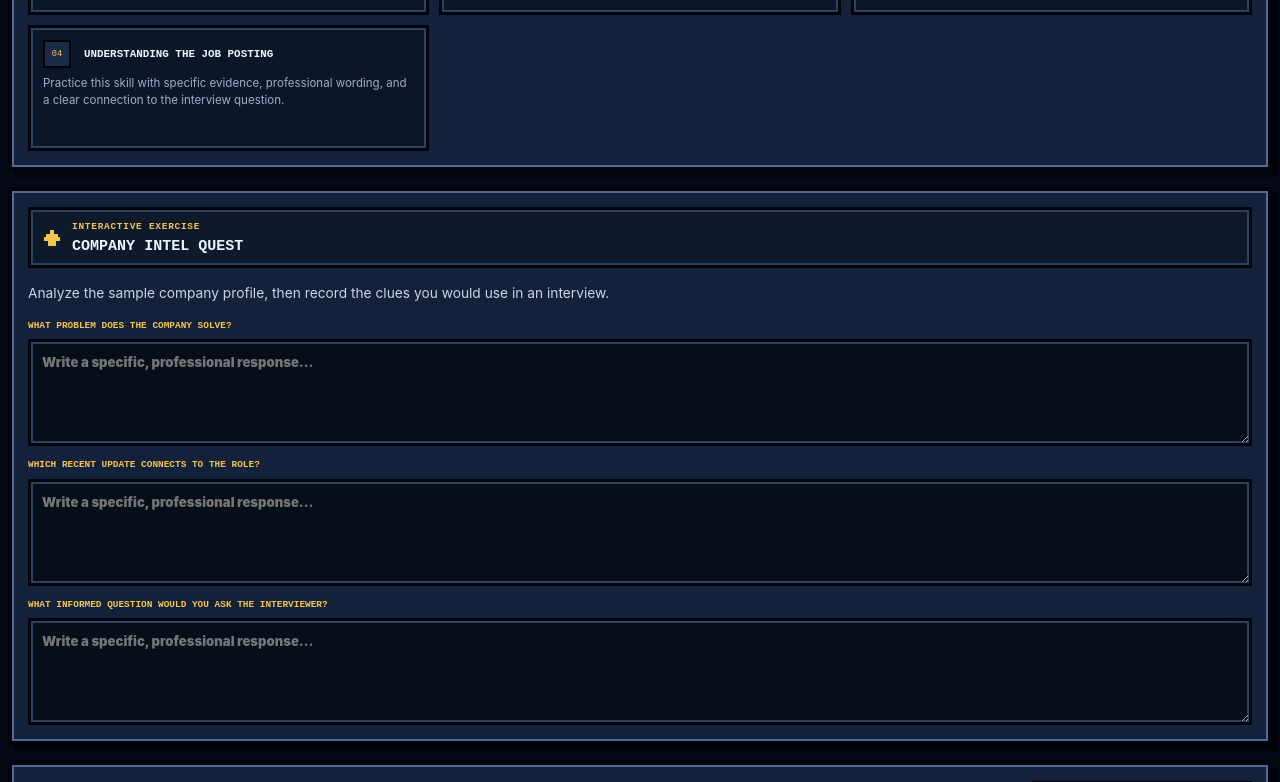
it: AcademyLesson › completes the first dedicated exercise and unlocks the next lesson
The width and height of the screenshot is (1280, 782).
(page scrolled)
Type "A specific evidence-based interview answer." into the text box labelled "What problem does the company solve?" at (640, 393), box [28,339,1252,446]
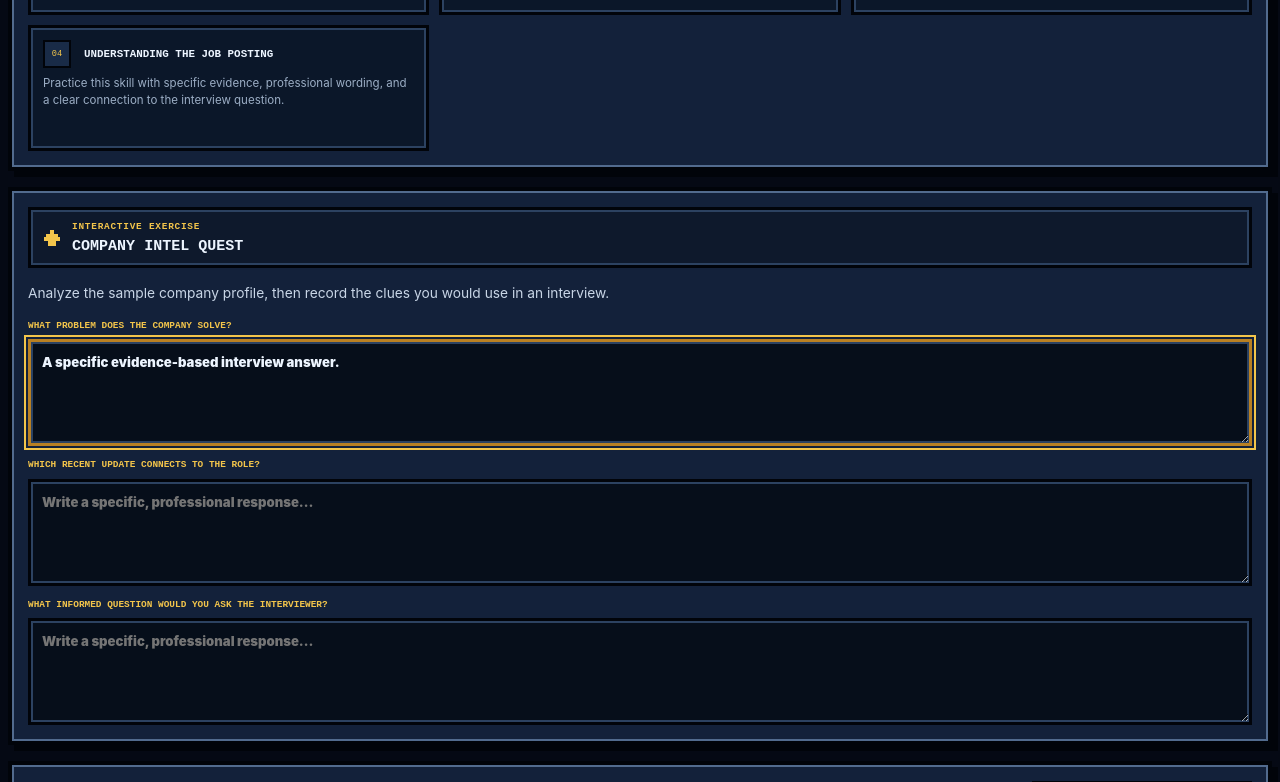
Type "A specific evidence-based interview answer." into the text box labelled "Which recent update connects to the role?" at (640, 532), box [28,478,1252,586]
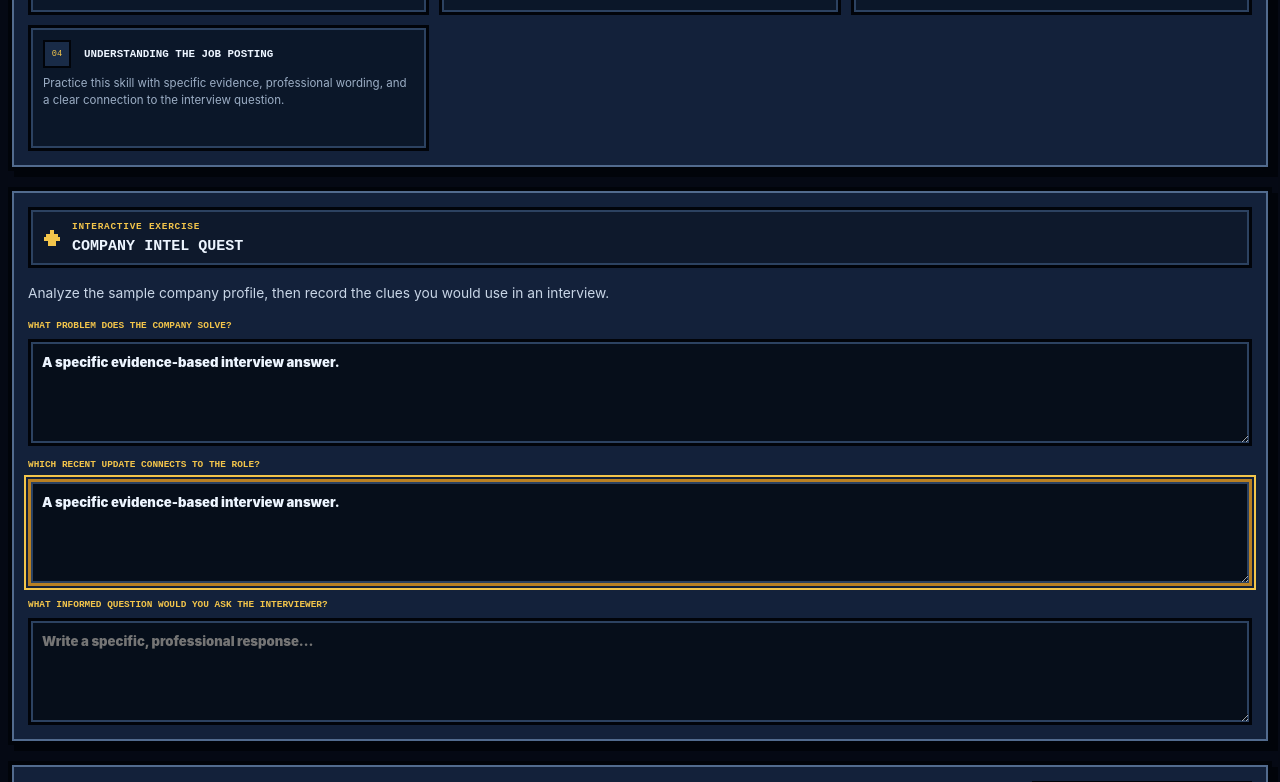
Type "A specific evidence-based interview answer." into the text box labelled "What informed question would you ask the interviewer?" at (640, 672), box [28,618,1252,725]
(page scrolled)
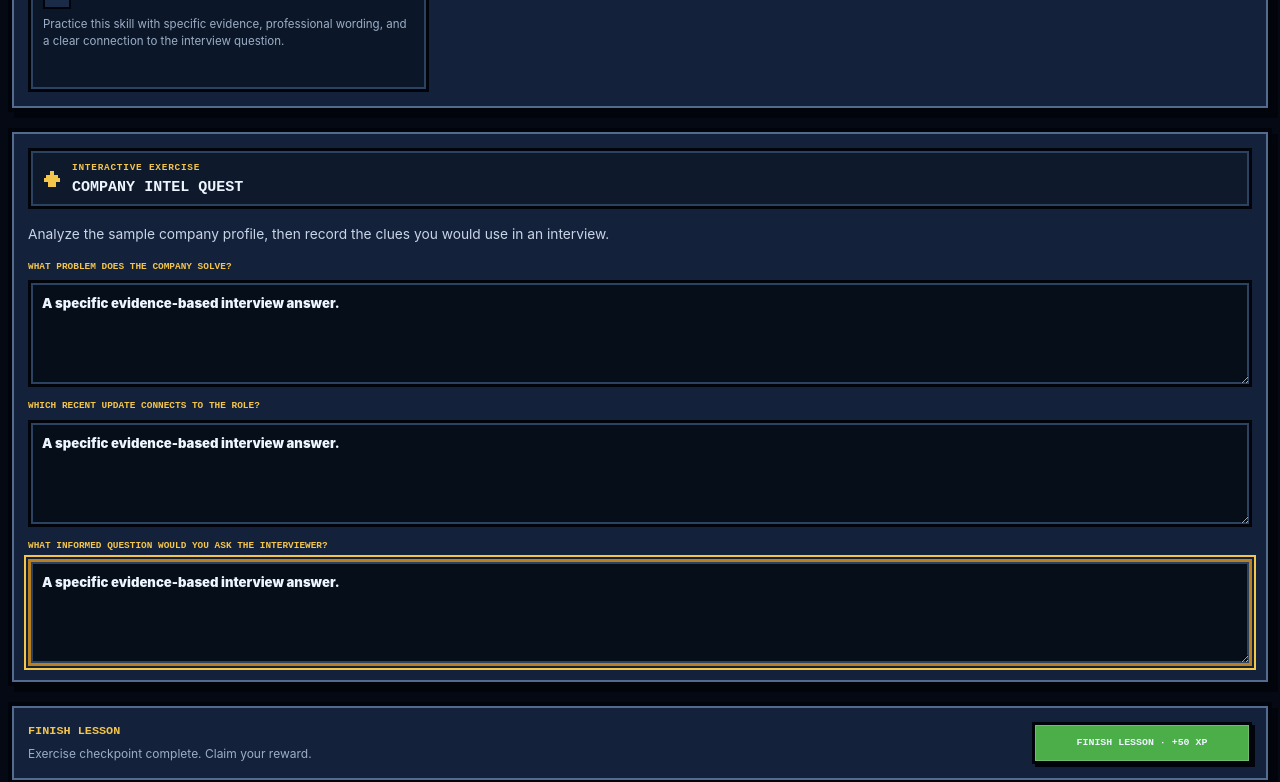
Result: the button "Finish Lesson · +50 XP" is enabled
Click the button "Finish Lesson · +50 XP" at (1142, 743), box [1032,722,1252,764]
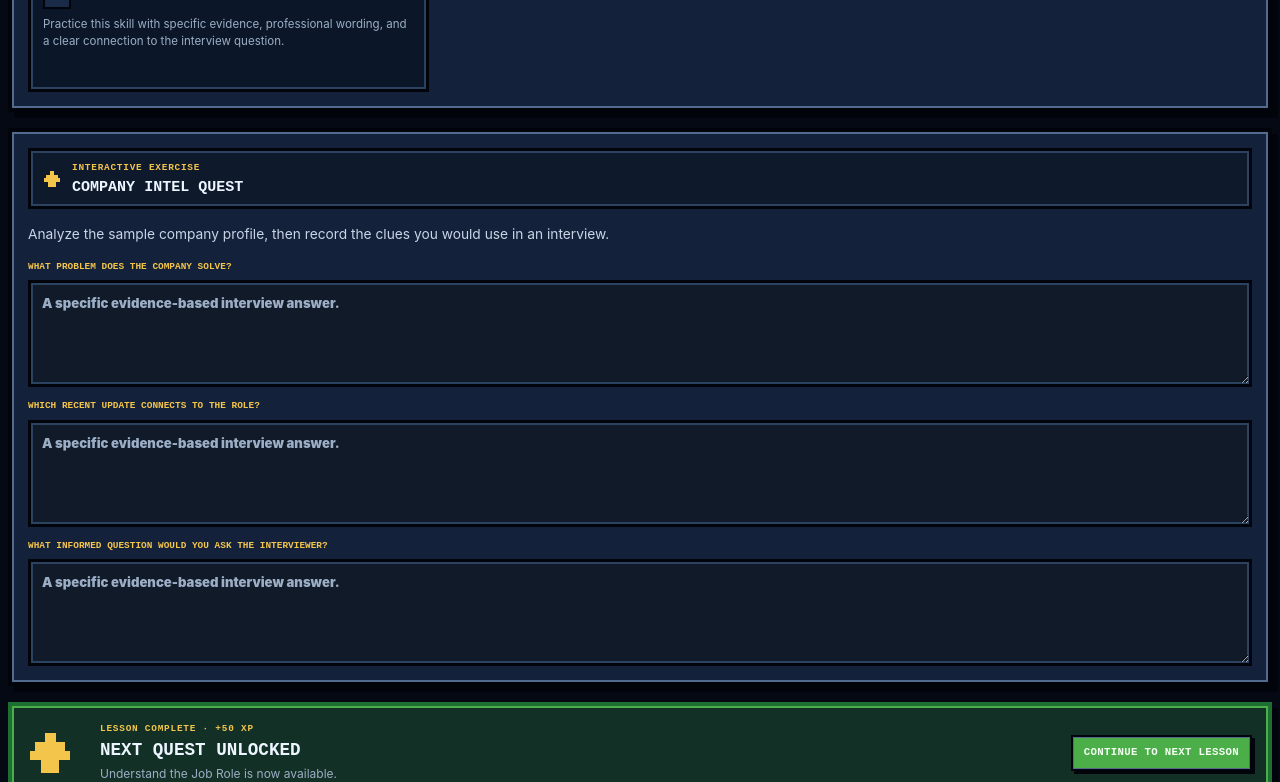
Result: the heading "Next Quest Unlocked" is shown at [100,740,301,760]
